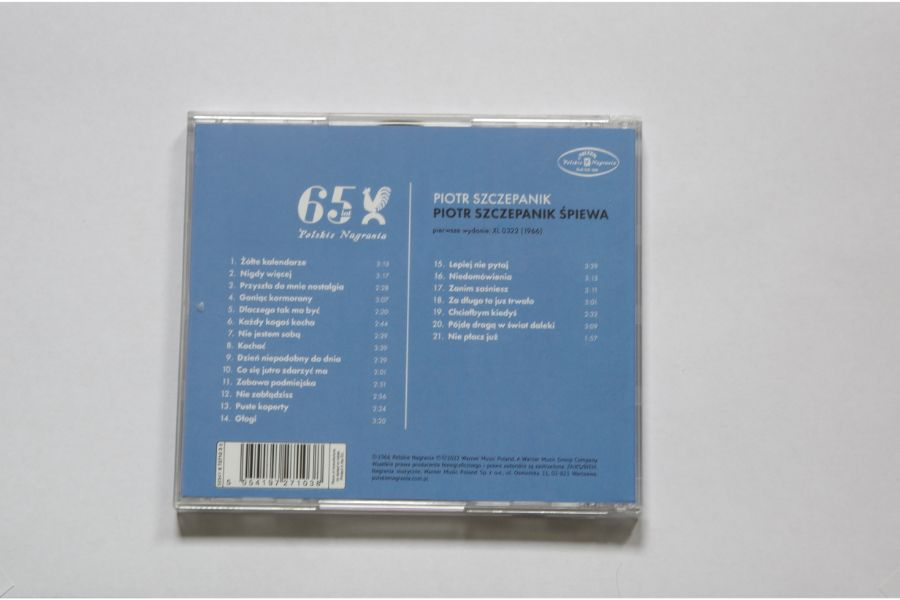album: (171, 111, 645, 518)
